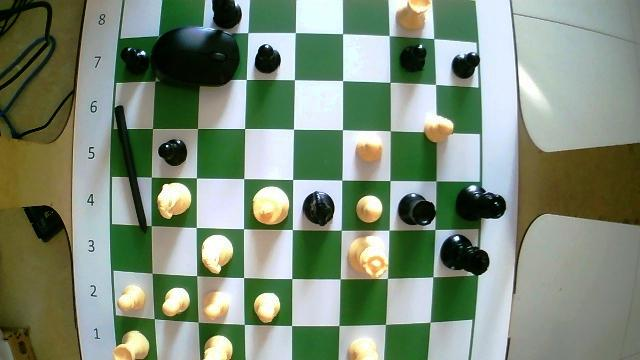piece: (441, 235, 488, 274), (456, 186, 505, 219), (348, 236, 388, 276), (252, 187, 288, 224), (397, 194, 435, 225), (202, 235, 232, 273), (158, 184, 189, 218), (397, 0, 430, 30), (303, 192, 333, 224), (114, 331, 148, 359), (424, 115, 453, 142), (161, 288, 189, 314), (254, 293, 279, 322), (213, 0, 239, 27), (356, 195, 382, 222), (452, 52, 479, 78), (255, 45, 280, 73), (204, 291, 228, 319), (400, 46, 426, 71), (357, 135, 381, 162), (159, 140, 186, 164), (203, 336, 231, 359), (117, 285, 144, 308), (349, 338, 378, 359), (121, 48, 149, 69)
